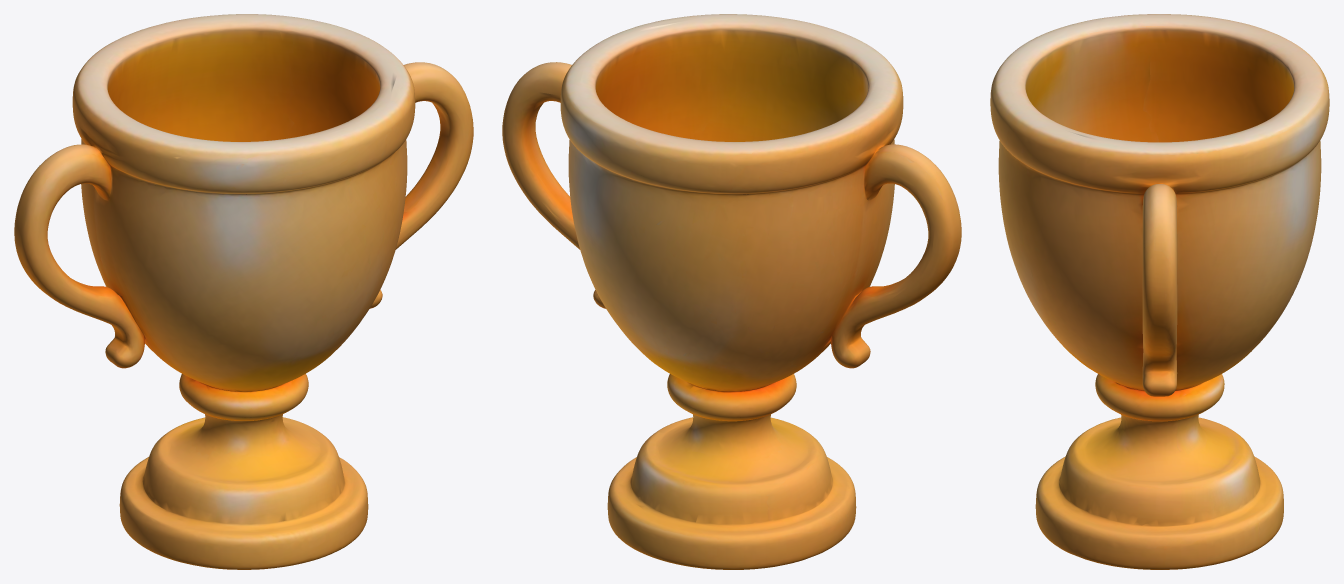
Rendered from 奖杯黄.glb.
3 renders of one model, left to right at view 1: azimuth 30°, elevation 25°; view 2: azimuth 150°, elevation 25°; view 3: azimuth 270°, elevation 25°, orthographic.
Visible parts, largest first — view 1: node_0; view 2: node_0; view 3: node_0.
Boxes of the visible parts, x1,y1,x2,y2 form: node_0: [14, 14, 473, 569]; node_0: [502, 14, 961, 569]; node_0: [990, 14, 1329, 569].
Size of the model in its own units: 1.01 by 0.9432 by 0.6587.
Materials: 1 (1 with a texture image).
